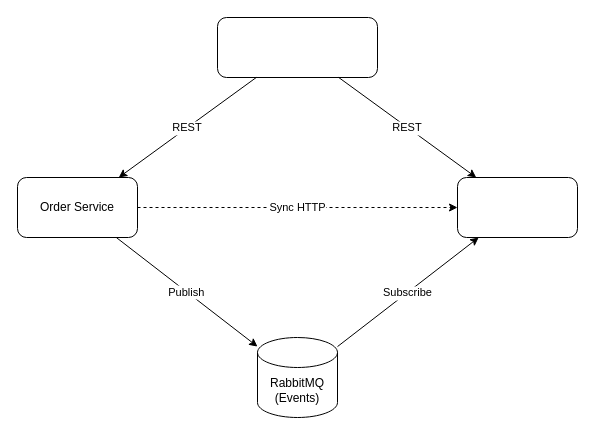
Some shapes in this 595 by 435 pixel diagram are drawn without their labels. Each missing label, with the centre of its shape:
"API Gateway" goes at (297,47).
"Product Service" goes at (517,207).
